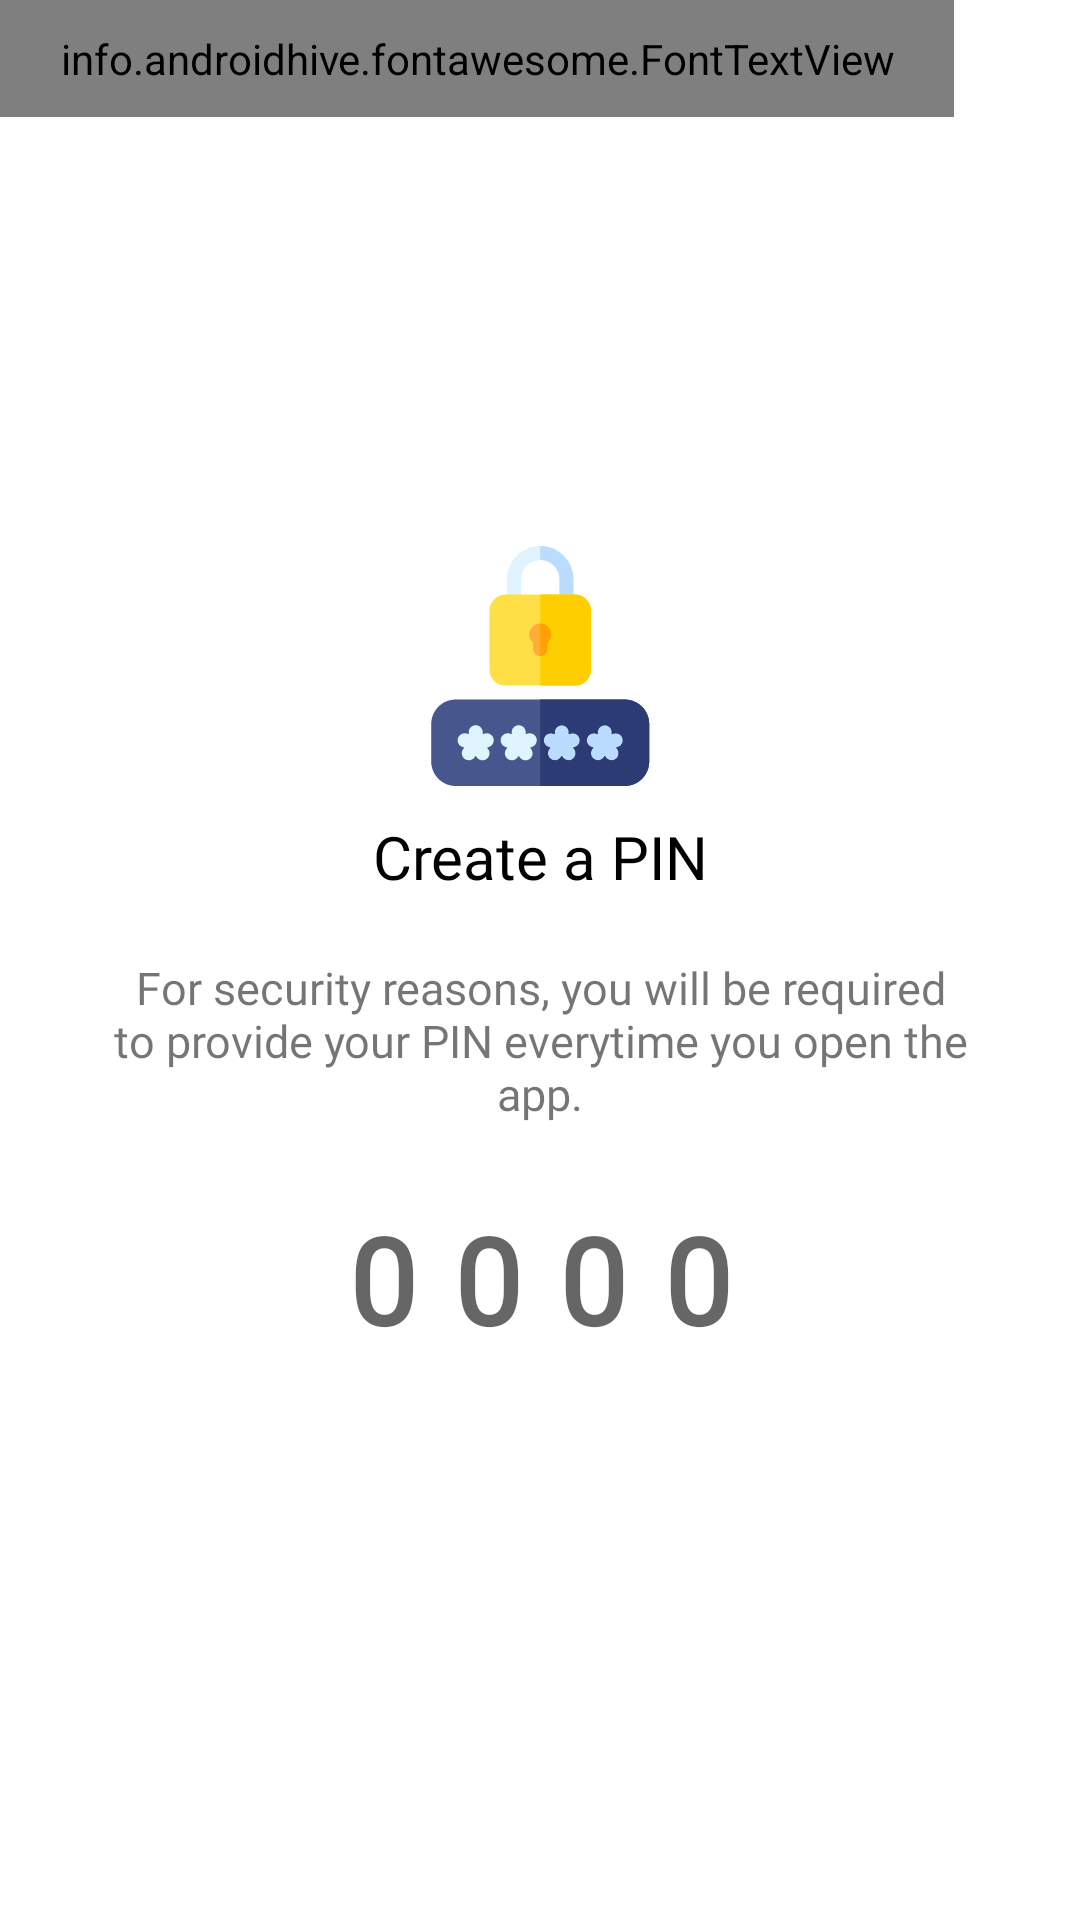

Point at icon controls on the screen. Image size 1080*1920, points as [x,y].
password: [540,666]
